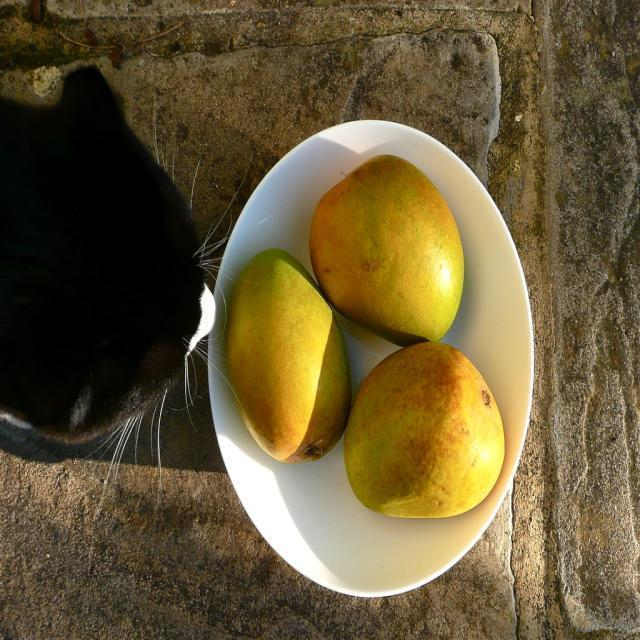Mango: (308, 153, 464, 346), (342, 340, 506, 519), (226, 248, 351, 463)
